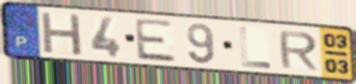4: (89, 15, 124, 59)
9: (185, 22, 216, 66)
E: (132, 17, 179, 64)
H: (39, 10, 85, 57)
L: (237, 25, 273, 70)
R: (277, 30, 320, 72)
